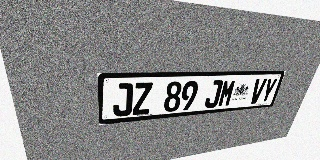8: (163, 81, 183, 112)
9: (179, 81, 199, 111)
J: (113, 83, 133, 117), (204, 80, 224, 108)
M: (217, 79, 237, 107)
V: (248, 78, 267, 104)
Y: (259, 78, 278, 103)
Z: (132, 82, 153, 115)
